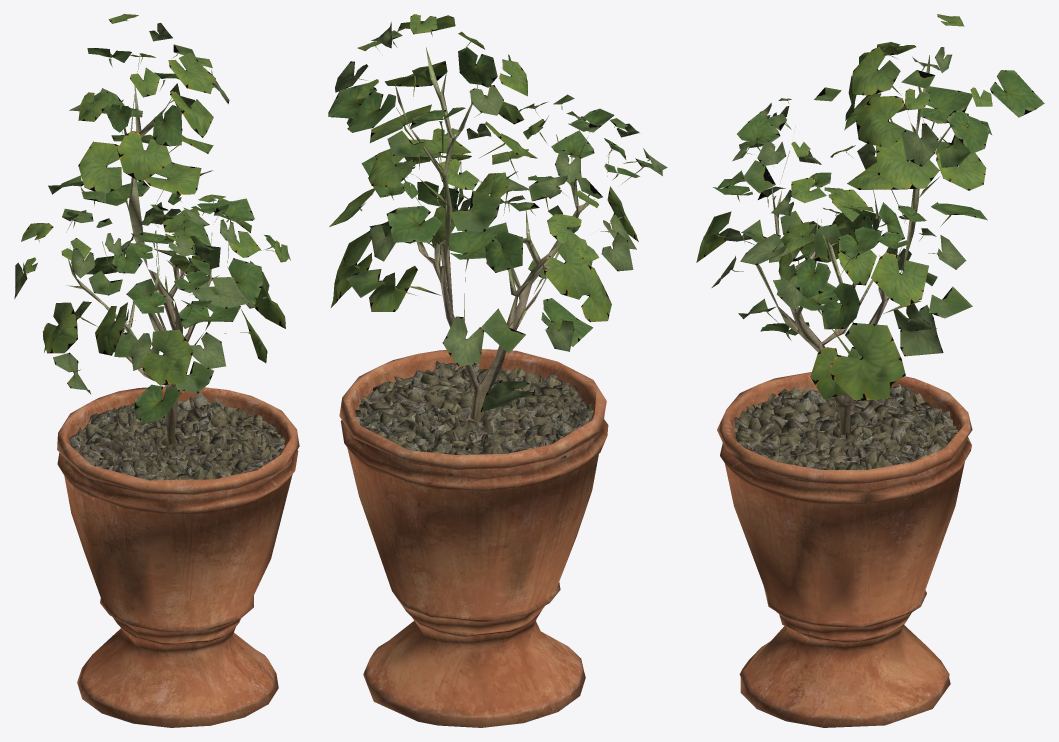
File: potted_plant_01.glb
3 renders of one model, left to right at view 1: azimuth 30°, elevation 25°; view 2: azimuth 150°, elevation 25°; view 3: azimuth 270°, elevation 25°, orthographic. The views are drawn at different scales.
Parts seen in each view (by area): view 1: potted_plant_01_stem, potted_plant_01_leaves; view 2: potted_plant_01_stem, potted_plant_01_leaves; view 3: potted_plant_01_stem, potted_plant_01_leaves.
Part boxes in pixels (x1,y1,x2,y2): potted_plant_01_stem: (57,53,299,727); potted_plant_01_leaves: (14,14,290,423); potted_plant_01_stem: (339,47,609,727); potted_plant_01_leaves: (328,14,667,411); potted_plant_01_stem: (717,55,972,727); potted_plant_01_leaves: (696,14,1044,400).
Bounding box in the file's own units: 0.587 × 1.33 × 0.6336.
Materials: 2 (2 with a texture image).
